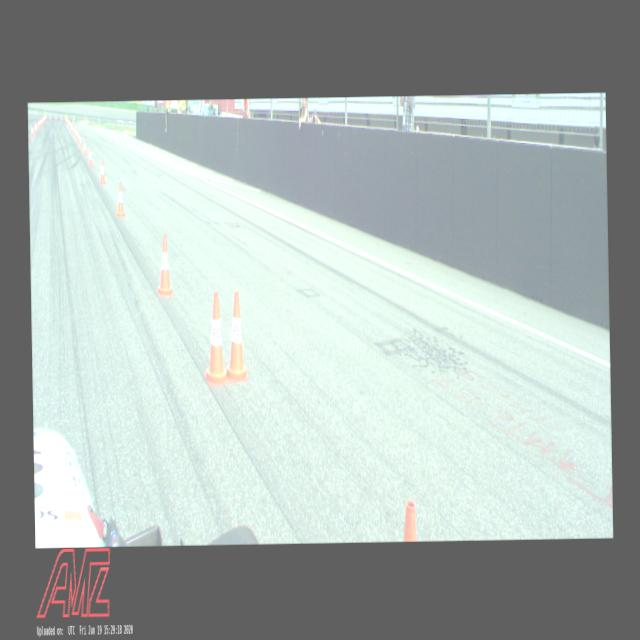orange_cone: (202, 293, 230, 386), (226, 291, 250, 382), (155, 233, 173, 296), (116, 180, 124, 217), (98, 160, 105, 184), (88, 146, 92, 166), (82, 139, 86, 155), (29, 124, 34, 136), (78, 134, 82, 146), (76, 130, 79, 142), (34, 122, 36, 134), (37, 118, 39, 128), (74, 127, 76, 137), (39, 118, 41, 126), (72, 126, 74, 134)
unknown_cone: (402, 500, 417, 541)
